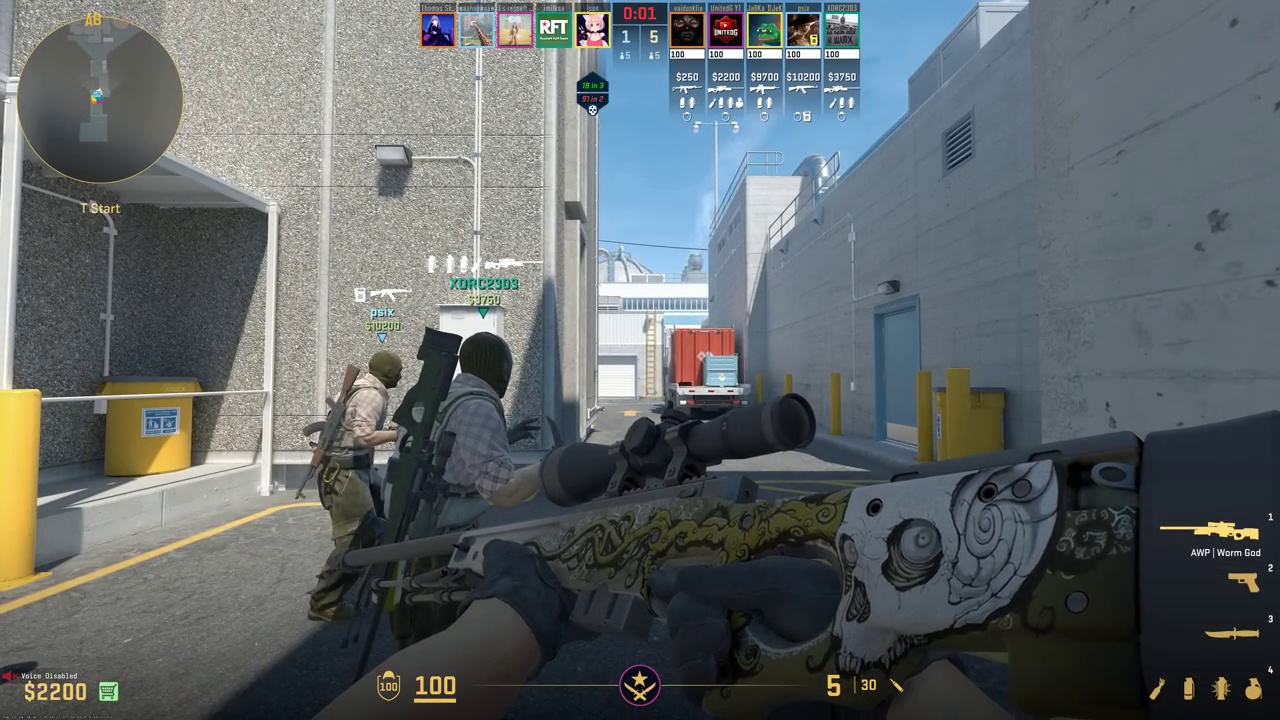Terrorist: (309, 350, 403, 625), (404, 333, 521, 531)
